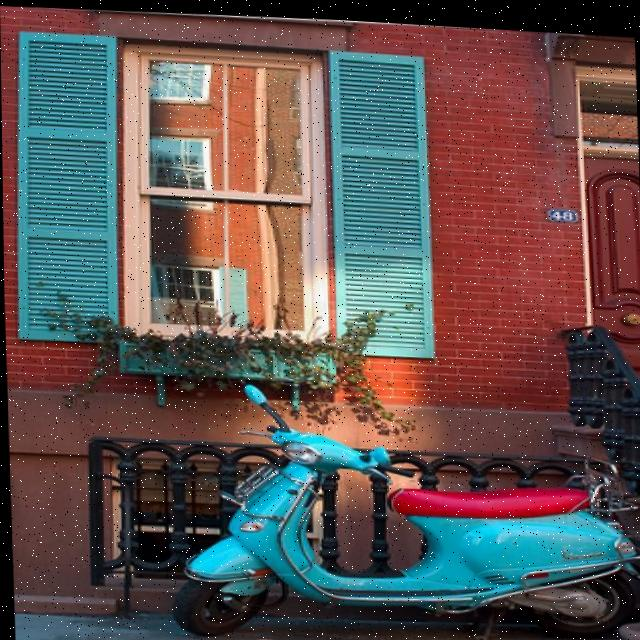motorcycle: (162, 364, 640, 640)
